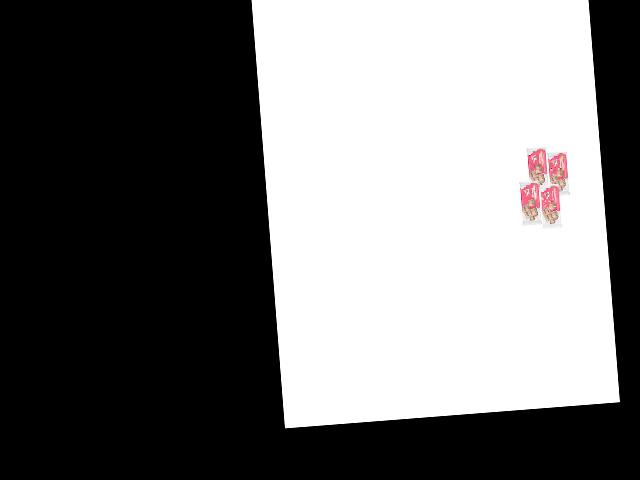chocolate: (543, 147, 572, 199)
